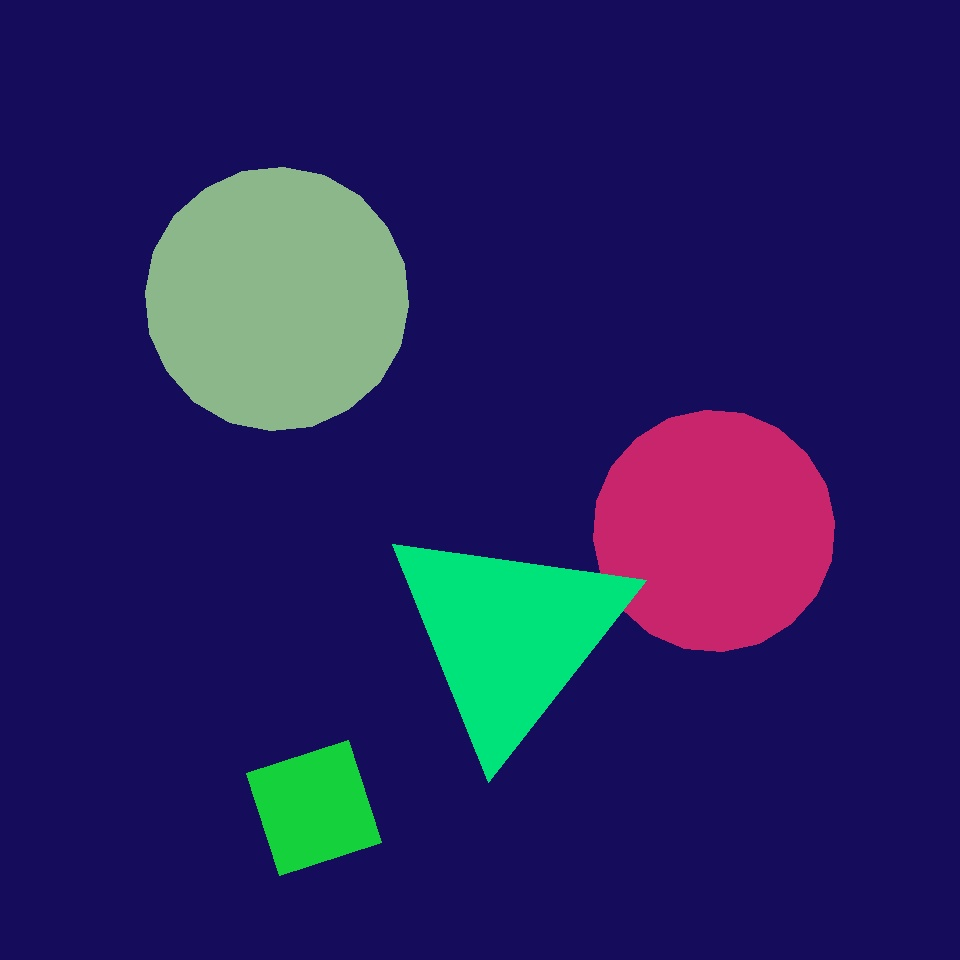circle: (382, 517, 636, 755), (174, 380, 364, 553), (301, 241, 436, 381), (167, 94, 275, 217)
square: (176, 533, 446, 804), (246, 740, 382, 876)
triangle: (93, 462, 391, 759), (145, 168, 408, 431), (594, 410, 834, 652)
